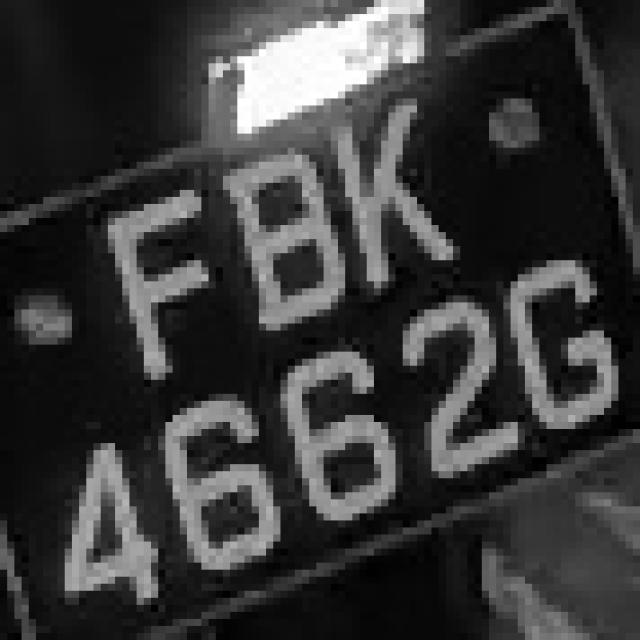2: (374, 288, 532, 486)
4: (7, 443, 173, 626)
6: (136, 366, 288, 584), (252, 330, 410, 528)
B: (180, 112, 345, 338)
F: (86, 183, 252, 373)
G: (482, 225, 633, 443)
K: (316, 98, 446, 310)
